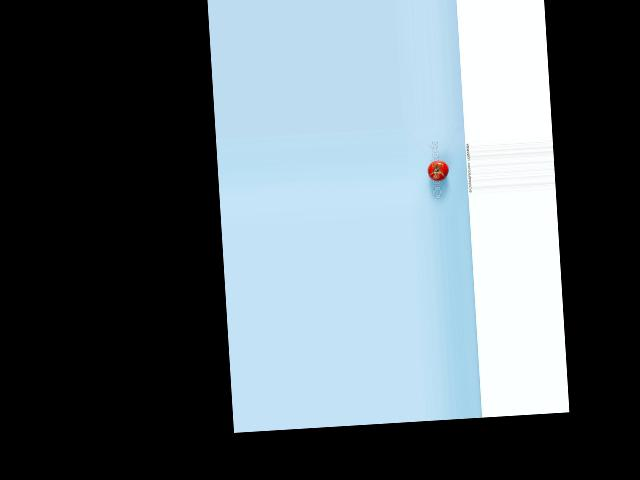tomato: (427, 160, 450, 181)
